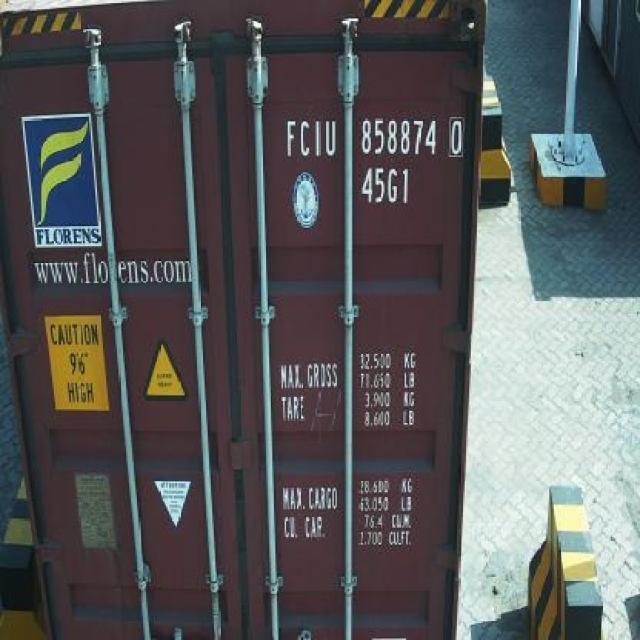ISO: (359, 166, 412, 202)
container_number: (286, 118, 460, 160)
